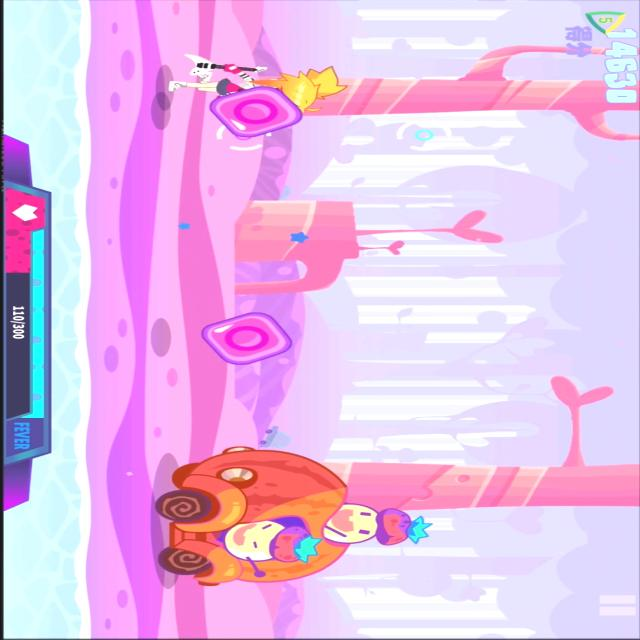cheboss: (146, 444, 434, 588)
kuai: (194, 83, 314, 143), (196, 309, 294, 369)
